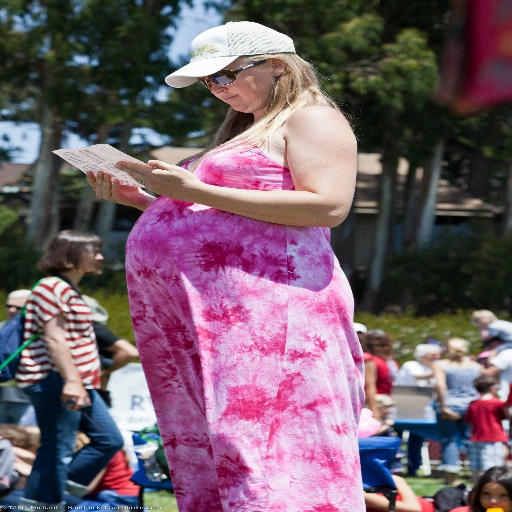hand: (126, 153, 198, 192), (83, 170, 148, 206), (58, 382, 93, 413)
